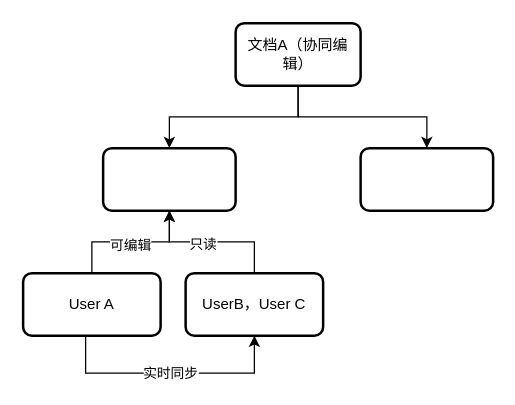
This 515x405 diagram has some shape labels left out. The shapes that lost their labels are listed below. From the top down, each one's box as (x1, y1, x2, y2) in pixels, then its label:
(101, 146, 236, 211): 条目1 （已检出，User A）
(359, 146, 494, 211): 条目2 （可检出）
